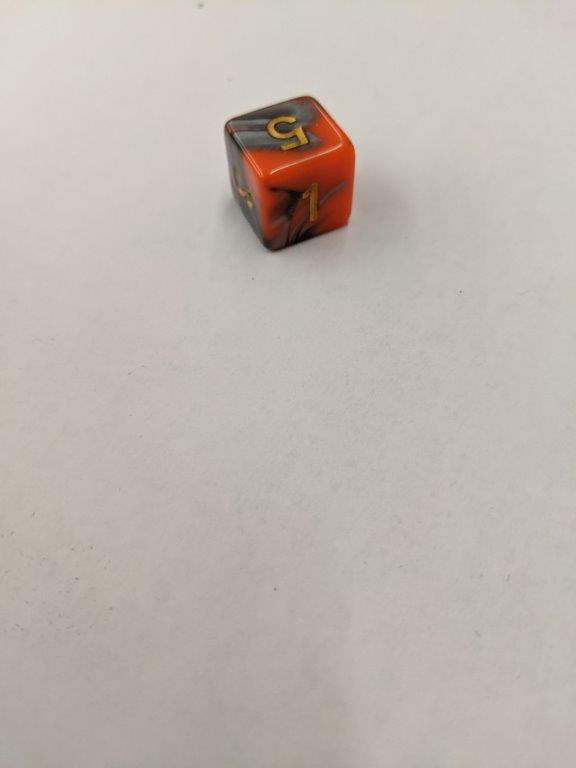d6-5: (223, 93, 357, 256)
